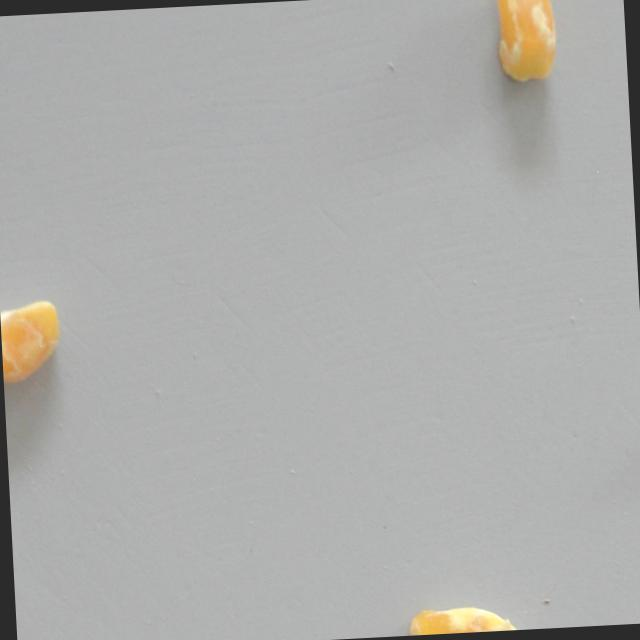pelicula: (493, 0, 563, 85), (0, 297, 65, 388), (406, 603, 545, 636)
